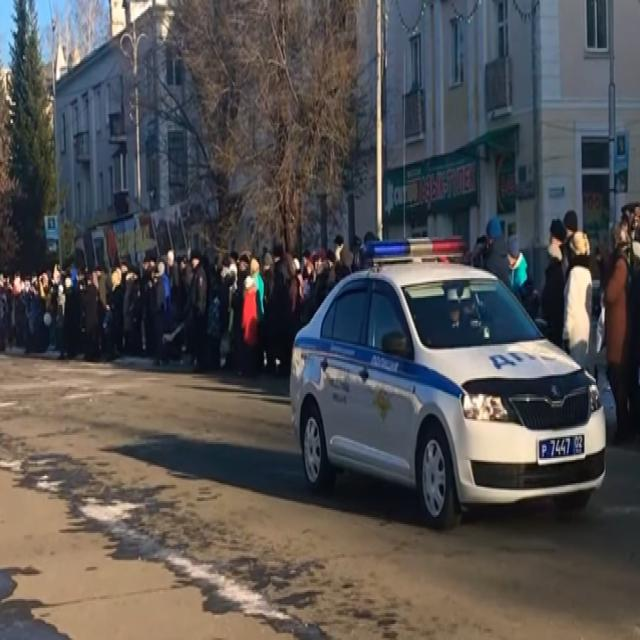police car: (294, 236, 609, 533)
